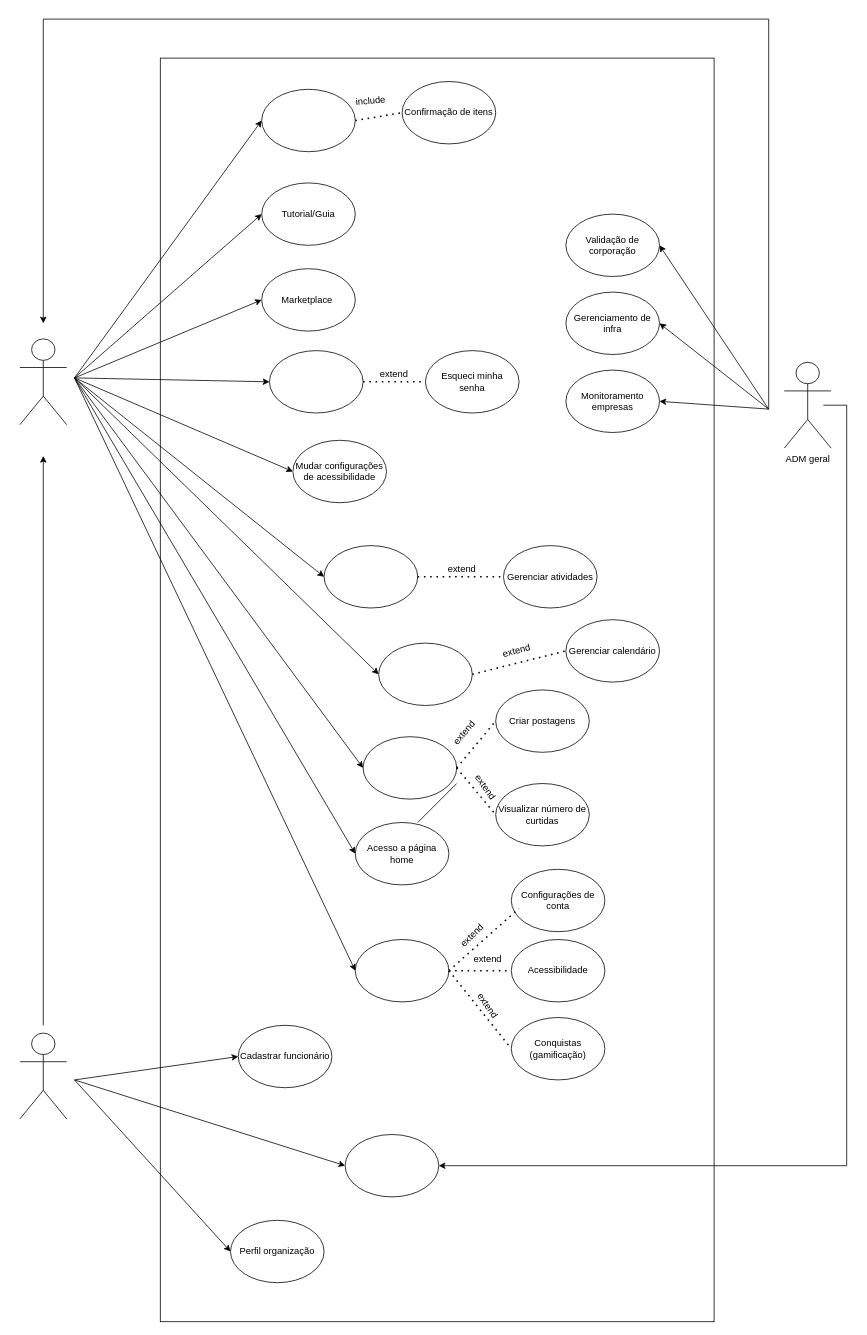
Image size: 867x1335. Some labels were removed from this diagram. The box of each missing label's shape, as (x1, y1, x2, y2) in pixels:
Acesso ao fórum (timeline): (362, 736, 457, 799)
ADM empresa: (19, 1032, 67, 1119)
Criar atividades: (323, 545, 418, 608)
Dashboard: (261, 89, 355, 152)
Monitorar funcionário: (344, 1134, 439, 1197)
Perfil do Usuário: (355, 939, 449, 1002)
Realizar Login: (269, 350, 363, 413)
Usuário: (19, 338, 67, 425)
Visualizar calendário: (378, 642, 472, 706)
